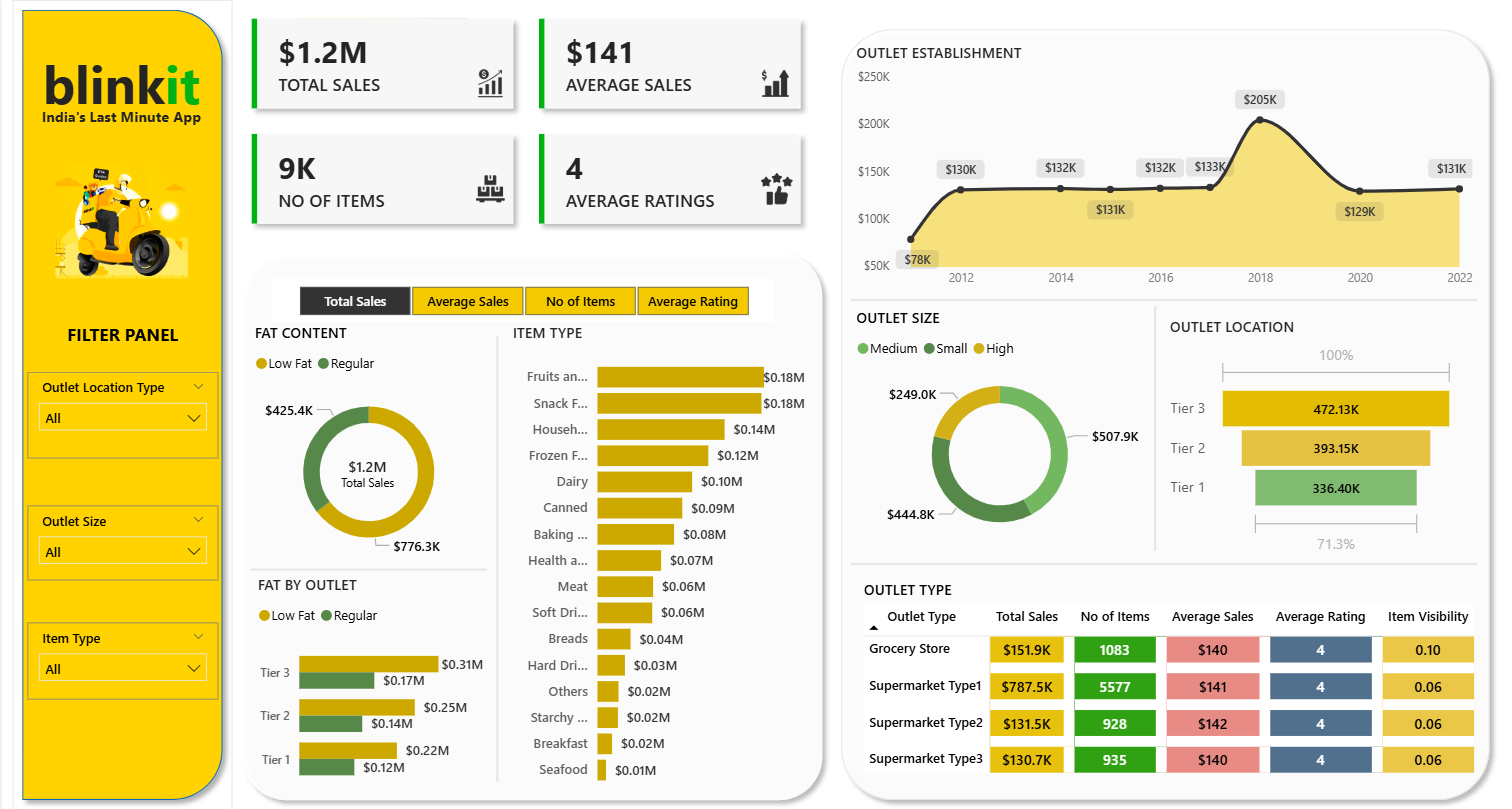

This screenshot's page, from the dashboard's own definition file:
{"tool":"powerbi","page":{"name":"Page 1","canvas":[1400,800],"ordinal":0},"visuals":[{"type":"shape","box":[10.2,0,203.6,749.8],"z":0},{"type":"textbox","box":[26.7,38.3,168.3,88.3],"z":1000},{"type":"textbox","box":[26.7,93.3,168.3,33.3],"z":2000},{"type":"cardVisual","fields":{"Data":["BlinkIT Grocery Data.Total Sales","BlinkIT Grocery Data.Average Sales","BlinkIT Grocery Data.No of Items","BlinkIT Grocery Data.Average Rating"]},"box":[213.3,0,543.3,225],"z":3000},{"type":"shape","box":[213.6,225.2,554.8,525],"z":4000},{"type":"donutChart","title":"FAT CONTENT","fields":{"Y":["BlinkIT Grocery Data.Total Sales"],"Category":["BlinkIT Grocery Data.Item Fat Content"]},"box":[228.6,298.1,220.3,230.2],"z":5000},{"type":"slicer","fields":{"Values":["Metrics.Metrics"]},"box":[250.1,258.4,465,40],"z":6000},{"type":"cardVisual","fields":{"Data":["BlinkIT Grocery Data.Total Sales"]},"box":[270,400,138.3,76.7],"z":7000},{"type":"clusteredBarChart","title":"FAT BY OUTLET","fields":{"Y":["BlinkIT Grocery Data.Total Sales"],"Category":["BlinkIT Grocery Data.Outlet Location Type"],"Series":["BlinkIT Grocery Data.Item Fat Content"]},"box":[231.7,531.7,218.3,208.3],"z":8000},{"type":"shape","box":[230,518.6,218.6,18.6],"z":9000},{"type":"shape","box":[448.6,311.4,20,412.9],"z":10000},{"type":"barChart","title":"ITEM TYPE","fields":{"Y":["BlinkIT Grocery Data.Total Sales"],"Category":["BlinkIT Grocery Data.Item Type"]},"box":[468.6,298.6,280,438.6],"z":11000},{"type":"shape","box":[768.3,18.3,618.3,731.7],"z":12000},{"type":"lineChart","title":"OUTLET ESTABLISHMENT","fields":{"Category":["BlinkIT Grocery Data.Outlet Establishment Year"],"Y":["BlinkIT Grocery Data.Total Sales"]},"box":[786.7,38.3,580,235],"z":13000},{"type":"shape","box":[786.7,273.3,580,8.3],"z":14000},{"type":"donutChart","title":"OUTLET SIZE","fields":{"Y":["BlinkIT Grocery Data.Total Sales"],"Category":["BlinkIT Grocery Data.Outlet Size"]},"box":[786.7,285,275,225],"z":15000},{"type":"shape","box":[1056.7,283.3,21.7,226.7],"z":16000},{"type":"funnel","title":"OUTLET LOCATION","fields":{"Category":["BlinkIT Grocery Data.Outlet Location Type"],"Y":["Sum(BlinkIT Grocery Data.Sales)"]},"box":[1076.7,293.3,273.3,225],"z":17000},{"type":"shape","box":[786.7,518.3,580,8.3],"z":18000},{"type":"pivotTable","title":"OUTLET TYPE","fields":{"Rows":["BlinkIT Grocery Data.Outlet Type"],"Values":["BlinkIT Grocery Data.Total Sales","BlinkIT Grocery Data.No of Items","BlinkIT Grocery Data.Average Sales","BlinkIT Grocery Data.Average Rating","Avg(BlinkIT Grocery Data.Item Visibility)"]},"box":[793.3,536.7,593.3,196.7],"z":19000},{"type":"slicer","fields":{"Values":["BlinkIT Grocery Data.Outlet Location Type"]},"box":[23.7,344.3,176.4,79.7],"z":20000},{"type":"slicer","fields":{"Values":["BlinkIT Grocery Data.Outlet Size"]},"box":[23.7,468.2,176.4,69.5],"z":21000},{"type":"slicer","fields":{"Values":["BlinkIT Grocery Data.Item Type"]},"box":[23.7,576.7,176.4,71.2],"z":22000},{"type":"textbox","box":[23.7,293.5,176.4,50.9],"z":23000},{"type":"image","box":[35.6,151,149.3,106.9],"z":24000},{"type":"image","box":[438.7,61.3,26.7,32],"z":25000},{"type":"image","box":[702.7,61.3,26.7,32],"z":26000},{"type":"image","box":[702.7,156,29.3,38.7],"z":27000},{"type":"image","box":[438.7,156,26.7,38.7],"z":28000}]}

Visuals, with their boxes on the page's 1400x800 design canvas (x1, y1, x2, y2). These are canvas units, not pixel positions in the 1512x809 screenshot, which may show the page scaled, cropped or inside an application window:
shape: detection(10, 0, 214, 750)
textbox: detection(27, 38, 195, 127)
textbox: detection(27, 93, 195, 127)
cardVisual - BlinkIT Grocery Data.Total Sales x BlinkIT Grocery Data.Average Sales: detection(213, 0, 757, 225)
shape: detection(214, 225, 768, 750)
"FAT CONTENT" donutChart: detection(229, 298, 449, 528)
slicer - Metrics.Metrics: detection(250, 258, 715, 298)
cardVisual - BlinkIT Grocery Data.Total Sales: detection(270, 400, 408, 477)
"FAT BY OUTLET" clusteredBarChart: detection(232, 532, 450, 740)
shape: detection(230, 519, 449, 537)
shape: detection(449, 311, 469, 724)
"ITEM TYPE" barChart: detection(469, 299, 749, 737)
shape: detection(768, 18, 1387, 750)
"OUTLET ESTABLISHMENT" lineChart: detection(787, 38, 1367, 273)
shape: detection(787, 273, 1367, 282)
"OUTLET SIZE" donutChart: detection(787, 285, 1062, 510)
shape: detection(1057, 283, 1078, 510)
"OUTLET LOCATION" funnel: detection(1077, 293, 1350, 518)
shape: detection(787, 518, 1367, 527)
"OUTLET TYPE" pivotTable: detection(793, 537, 1387, 733)
slicer - BlinkIT Grocery Data.Outlet Location Type: detection(24, 344, 200, 424)
slicer - BlinkIT Grocery Data.Outlet Size: detection(24, 468, 200, 538)
slicer - BlinkIT Grocery Data.Item Type: detection(24, 577, 200, 648)
textbox: detection(24, 294, 200, 344)
image: detection(36, 151, 185, 258)
image: detection(439, 61, 465, 93)
image: detection(703, 61, 729, 93)
image: detection(703, 156, 732, 195)
image: detection(439, 156, 465, 195)
